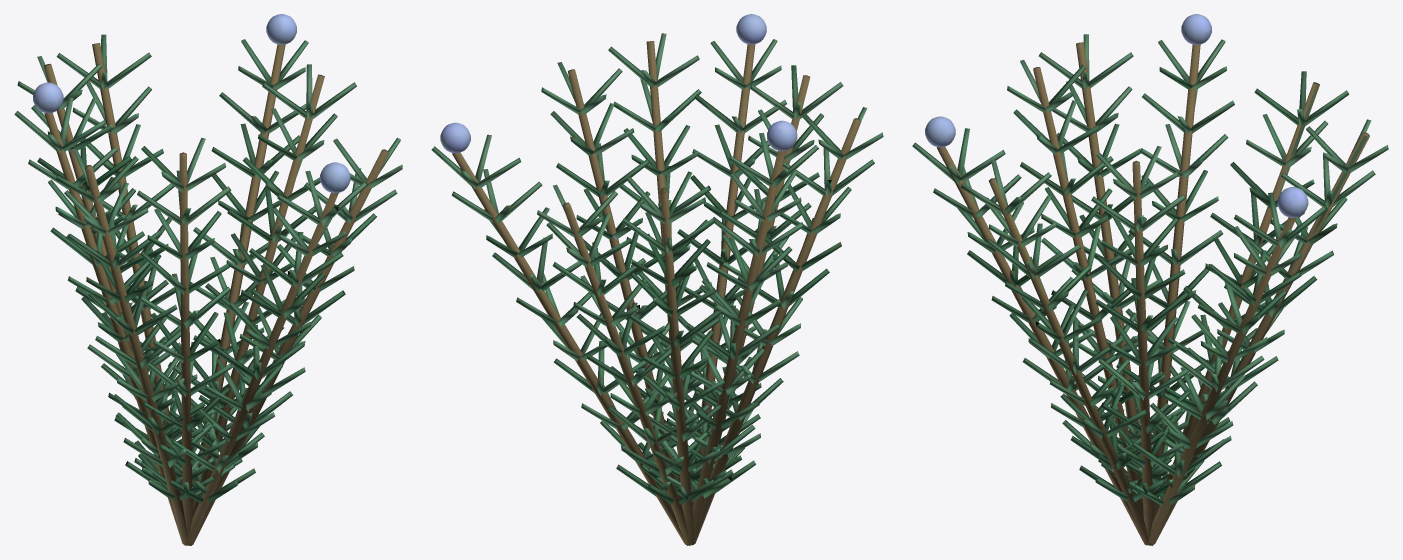
The model's file is crop_rosemary.glb.
3 views of the same model, side by side, from view 1: azimuth 30°, elevation 25°; view 2: azimuth 150°, elevation 25°; view 3: azimuth 270°, elevation 25° (orthographic).
Visible parts, largest first — view 1: crop_rosemary, fruit; view 2: crop_rosemary, fruit; view 3: crop_rosemary, fruit.
Boxes of the visible parts, box(x1,y1,x2,y2) form: crop_rosemary: box(33, 14, 388, 545); fruit: box(14, 34, 402, 256); crop_rosemary: box(440, 14, 861, 545); fruit: box(431, 33, 883, 267); crop_rosemary: box(925, 14, 1369, 545); fruit: box(912, 34, 1388, 276).
Size of the model in its own units: 0.2099 by 0.267 by 0.2443.
Materials: 1 (1 with a texture image).
